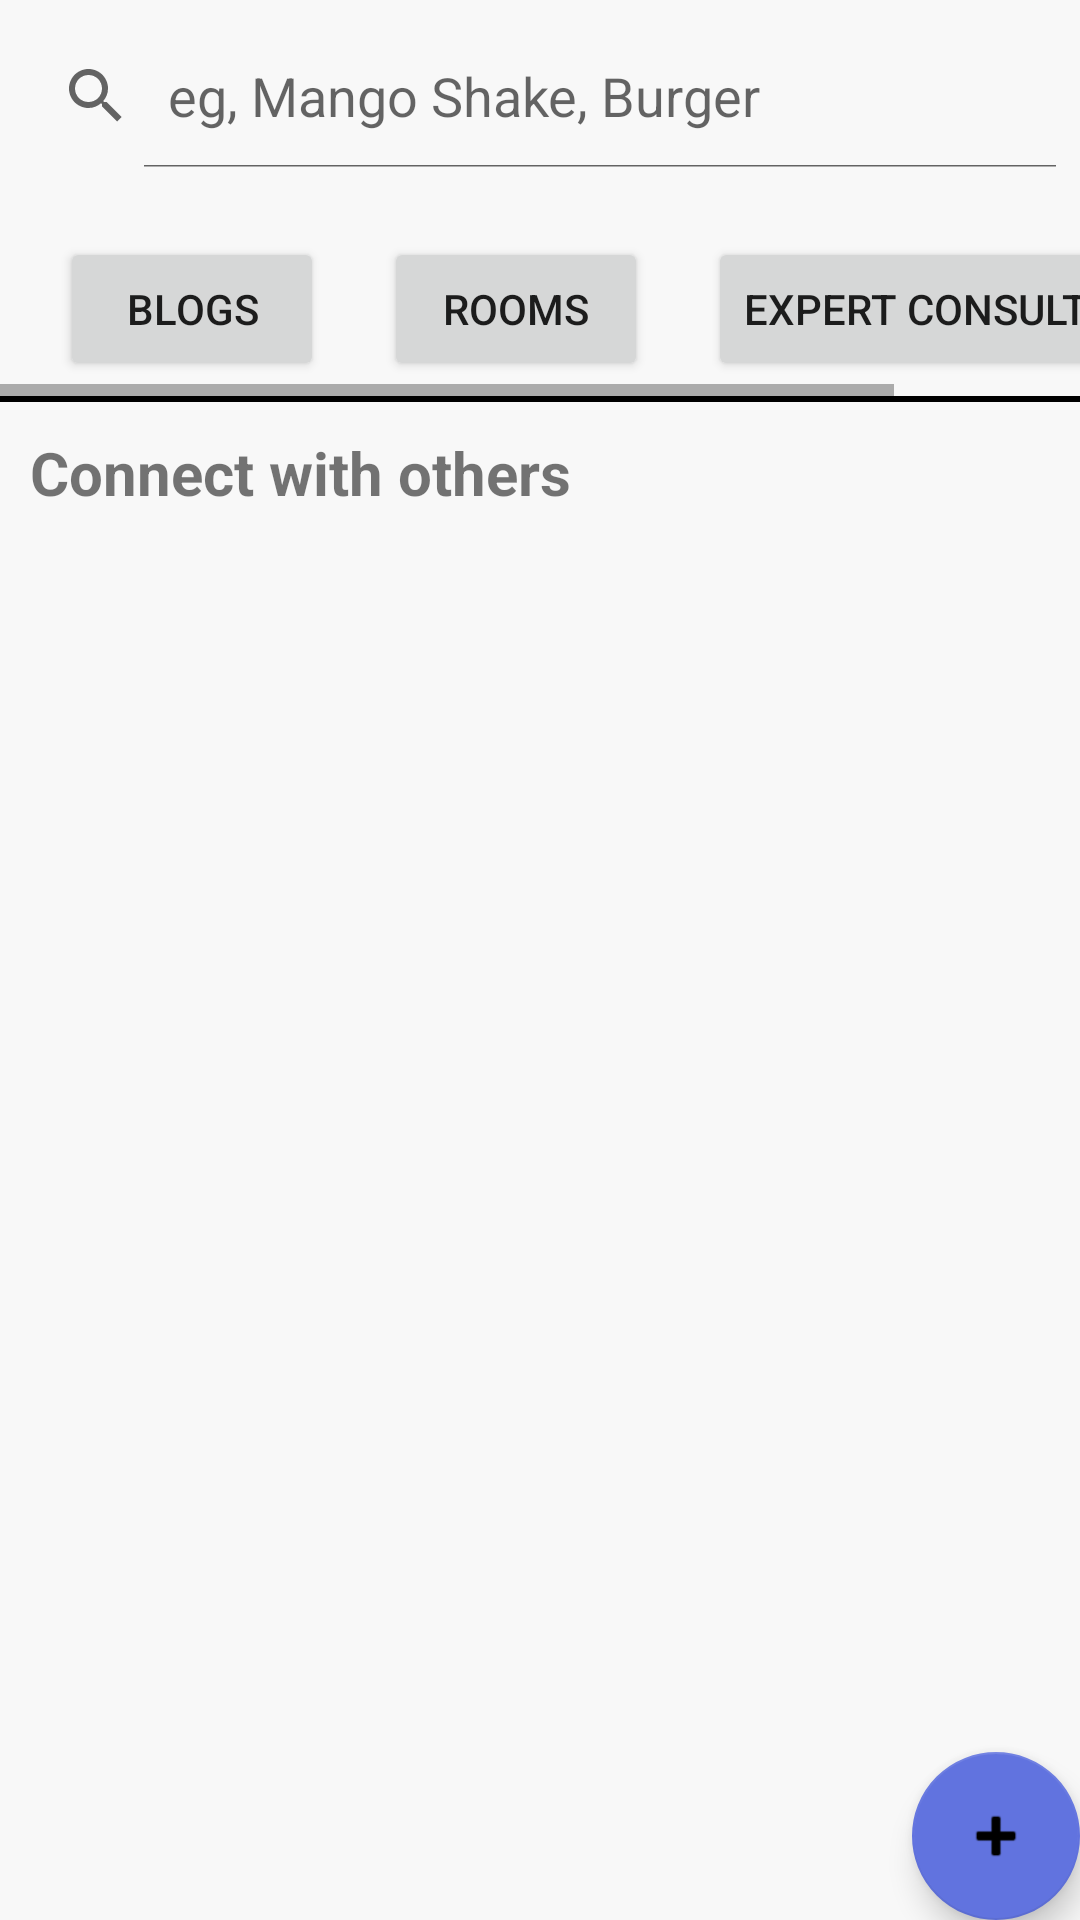

Screen size 1080px x 1920px. Icon name, then its center in pixels as (x=x, y=y):
add custom: (x=996, y=1836)
